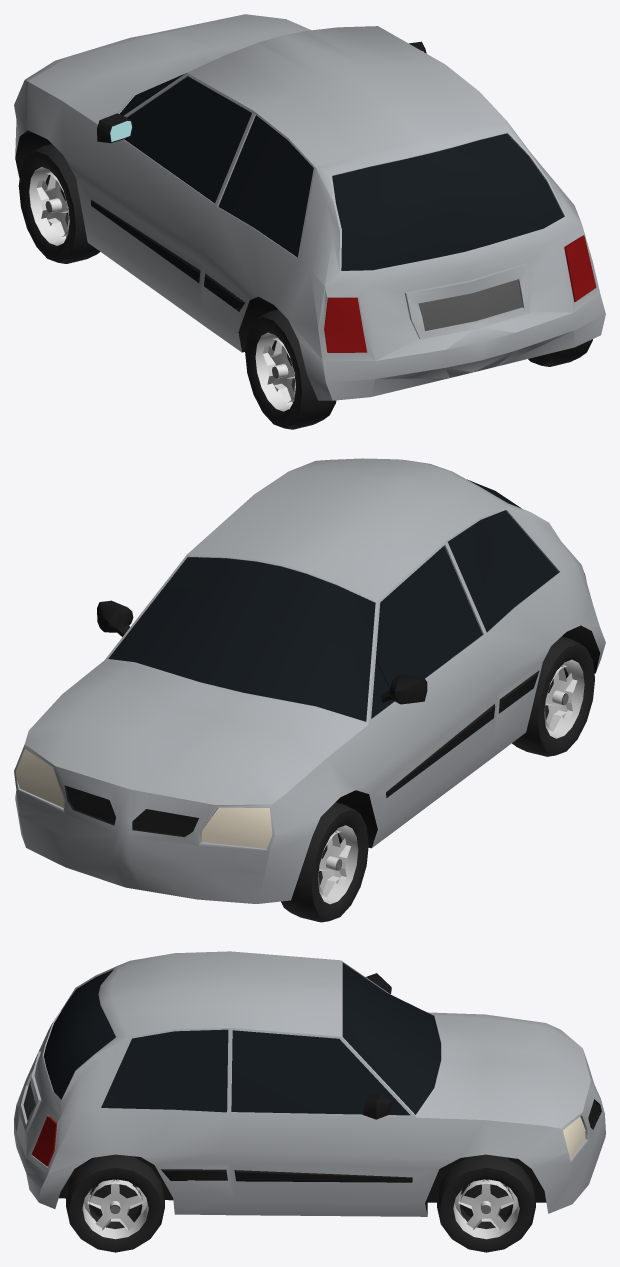
The model's file is hatch_pequeno.glb.
3 renders of one model, top to bottom at view 1: azimuth 30°, elevation 25°; view 2: azimuth 150°, elevation 25°; view 3: azimuth 270°, elevation 25°, orthographic. The views are drawn at different scales.
Parts seen in each view (by area): view 1: carroceria_pintura, carroceria_vidrio, carroceria_detalle, rueda_tras_izq_detalle, rueda_del_izq_detalle, carroceria_stop, rueda_tras_der_detalle; view 2: carroceria_pintura, carroceria_vidrio, carroceria_detalle, rueda_del_izq_detalle, rueda_tras_izq_detalle, carroceria_faro; view 3: carroceria_pintura, carroceria_vidrio, rueda_tras_der_detalle, rueda_del_der_detalle, carroceria_detalle, carroceria_stop, carroceria_faro.
Part boxes in pixels (x1,y1,x2,y2): carroceria_pintura: (14, 14, 605, 400); carroceria_vidrio: (120, 73, 563, 270); carroceria_detalle: (15, 41, 522, 352); rueda_tras_izq_detalle: (245, 309, 336, 429); rueda_del_izq_detalle: (18, 144, 100, 263); carroceria_stop: (324, 236, 596, 352); rueda_tras_der_detalle: (528, 339, 592, 366); carroceria_pintura: (14, 458, 605, 903); carroceria_vidrio: (108, 479, 558, 721); carroceria_detalle: (64, 600, 600, 848); rueda_del_izq_detalle: (281, 802, 368, 922); rueda_tras_izq_detalle: (512, 636, 594, 756); carroceria_faro: (14, 749, 276, 848); carroceria_pintura: (14, 951, 605, 1216); carroceria_vidrio: (44, 963, 440, 1115); rueda_tras_der_detalle: (66, 1154, 164, 1252); rueda_del_der_detalle: (437, 1154, 535, 1252); carroceria_detalle: (23, 973, 601, 1215); carroceria_stop: (31, 1116, 57, 1166); carroceria_faro: (563, 1117, 585, 1159).
Bounding box in the file's own units: 1.95 × 1.51 × 3.72.
